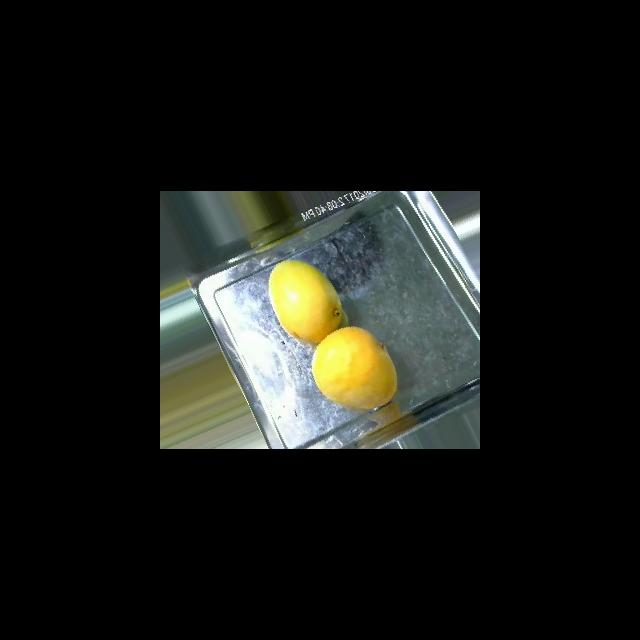mango: (311, 325, 397, 410), (267, 259, 347, 344)
